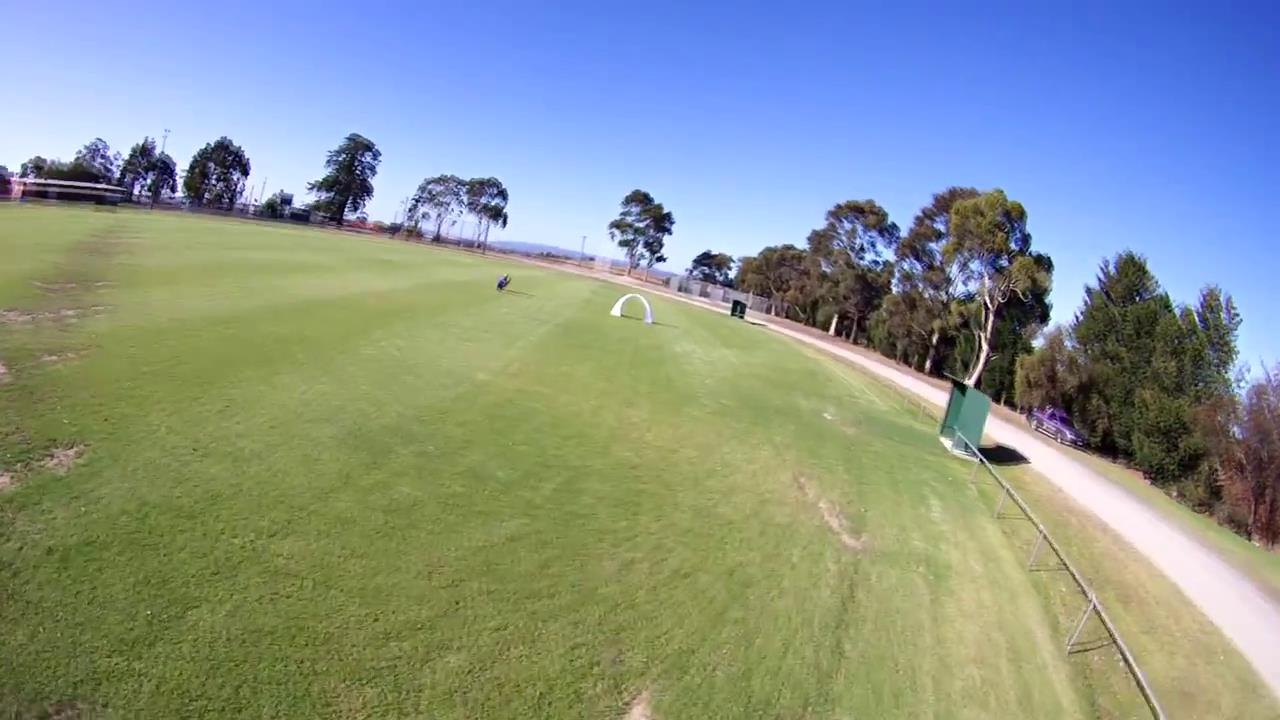gate: (609, 292, 654, 324)
